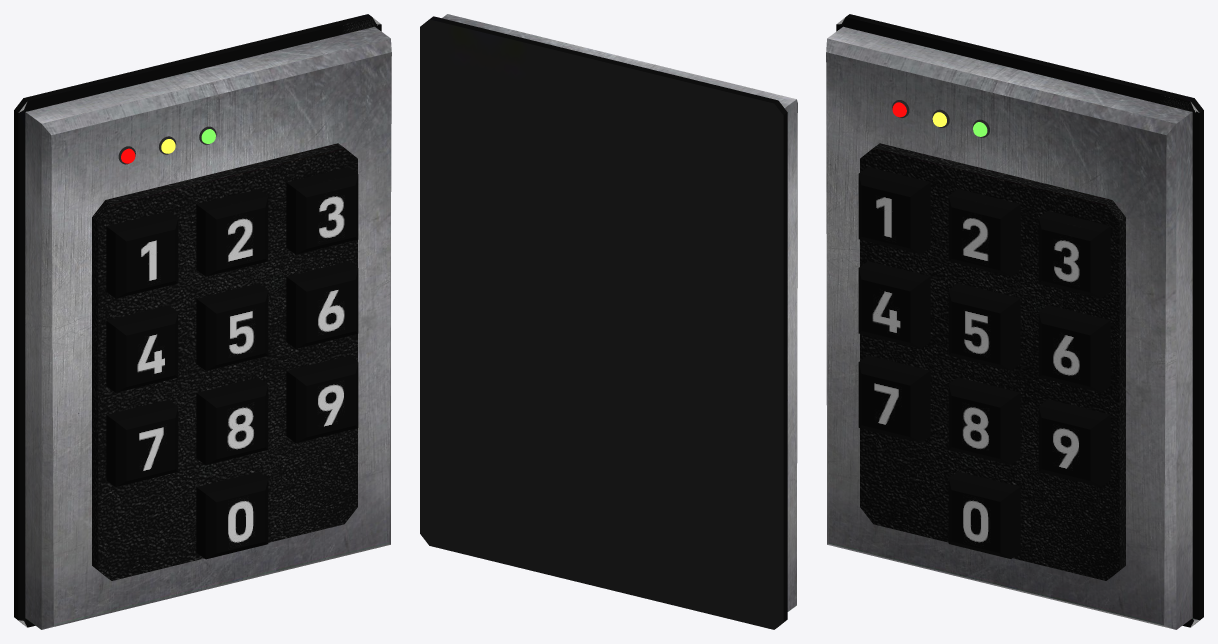
Rendered from keypad2.fbx.
3 views of the same model, side by side, from view 1: azimuth 30°, elevation 25°; view 2: azimuth 150°, elevation 25°; view 3: azimuth 330°, elevation 25° (orthographic).
Visible parts, largest first — view 1: Security_Keypad.001, Button_(3), Button_(6), Button_(5), Button_(7), Button_(9), Button_(1), Button_(2), Button_(4), Button_(8), Button_(0); view 2: Security_Keypad.001; view 3: Security_Keypad.001, Button_(4), Button_(7), Button_(1), Button_(8), Button_(0), Button_(3), Button_(5), Button_(9), Button_(2), Button_(6).
Part boxes in pixels (<box>): Security_Keypad.001: <box>14,14,391,629</box>; Button_(3): <box>286,167,358,254</box>; Button_(6): <box>286,261,358,348</box>; Button_(5): <box>196,283,268,370</box>; Button_(7): <box>106,399,178,486</box>; Button_(9): <box>286,355,358,442</box>; Button_(1): <box>106,211,178,298</box>; Button_(2): <box>196,189,268,276</box>; Button_(4): <box>106,305,178,392</box>; Button_(8): <box>196,377,268,464</box>; Button_(0): <box>196,472,268,559</box>; Security_Keypad.001: <box>420,14,797,629</box>; Security_Keypad.001: <box>826,14,1203,629</box>; Button_(4): <box>858,261,930,348</box>; Button_(7): <box>858,355,930,442</box>; Button_(1): <box>858,167,930,254</box>; Button_(8): <box>948,377,1020,464</box>; Button_(0): <box>948,471,1020,558</box>; Button_(3): <box>1038,211,1110,298</box>; Button_(5): <box>948,283,1020,370</box>; Button_(9): <box>1038,399,1110,486</box>; Button_(2): <box>948,189,1020,276</box>; Button_(6): <box>1038,305,1110,392</box>.
Bounding box in the file's own units: 27.04 × 37.44 × 5.88.
